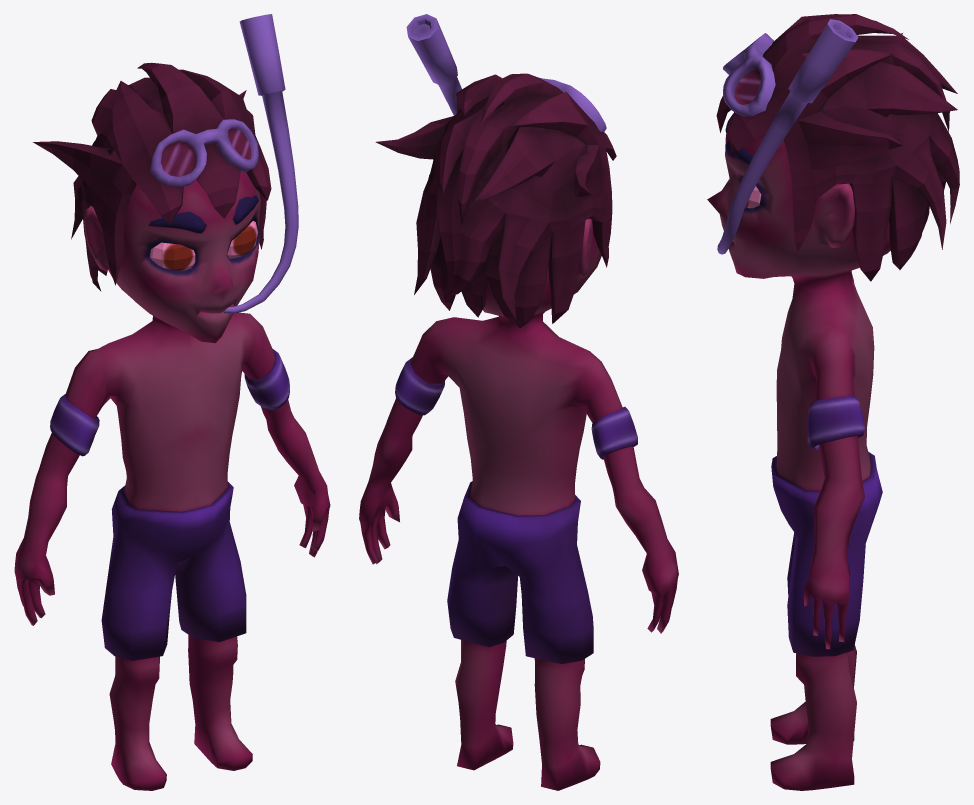
File: enemy1Text.fbx
3 renders of one model, left to right at view 1: azimuth 30°, elevation 25°; view 2: azimuth 150°, elevation 25°; view 3: azimuth 270°, elevation 25°, orthographic. The views are drawn at different scales.
Visible parts, largest first — view 1: enemyBody, sweep3, pipa1, gafas, surfer_L, eyes, cejas; view 2: enemyBody, sweep3, surfer_L, pipa1, gafas; view 3: enemyBody, sweep3, pipa1, gafas, surfer_L.
Boxes of the visible parts, x1,y1,x2,y2 form: enemyBody: (14,171,330,790); sweep3: (33,62,271,291); pipa1: (223,14,298,313); gafas: (149,119,258,187); surfer_L: (50,349,289,456); eyes: (150,221,257,270); cejas: (148,195,258,233); enemyBody: (359,218,678,790); sweep3: (375,73,616,327); surfer_L: (395,357,637,459); pipa1: (406,14,461,115); gafas: (539,77,606,132); enemyBody: (707,112,890,790); sweep3: (716,14,959,281); pipa1: (717,19,858,254); gafas: (723,33,775,116); surfer_L: (807,396,864,449).
Bounding box in the file's own units: 61.65 × 140 × 41.
Materials: 1 (1 with a texture image).
